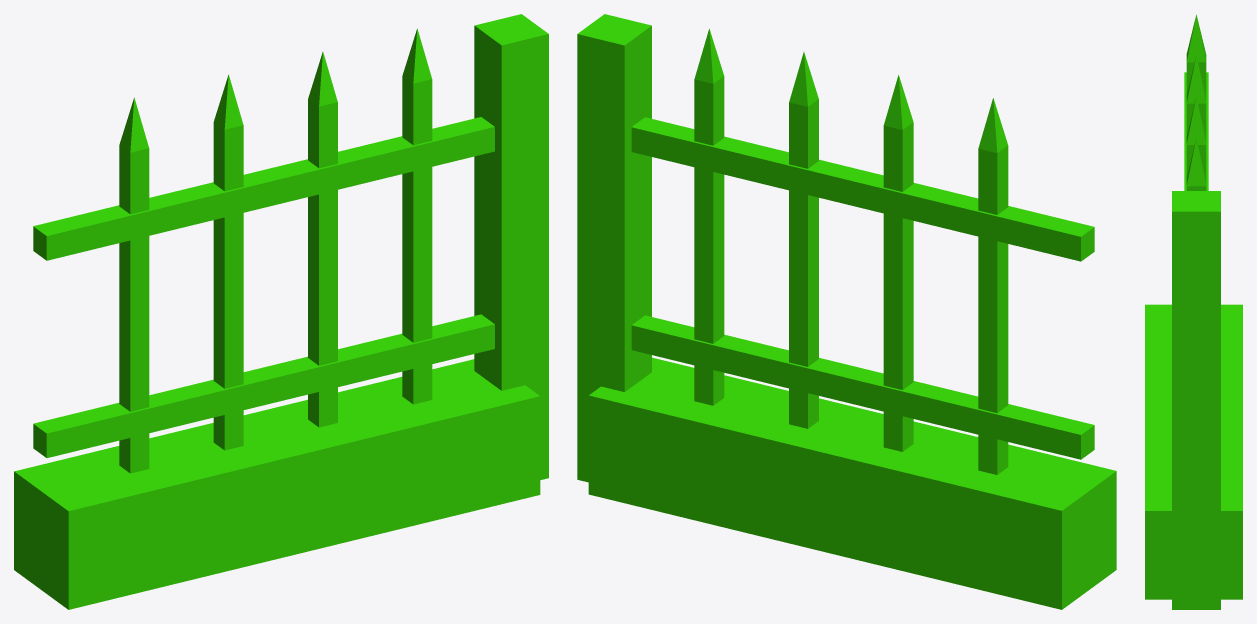
File: fence1_08.fbx
3 renders of one model, left to right at view 1: azimuth 30°, elevation 25°; view 2: azimuth 150°, elevation 25°; view 3: azimuth 270°, elevation 25°, orthographic. The views are drawn at different scales.
Parts seen in each view (by area): view 1: fence1_08; view 2: fence1_08; view 3: fence1_08.
Boxes of the visible parts, x1,y1,x2,y2 form: fence1_08: (14,14,548,609); fence1_08: (577,14,1116,609); fence1_08: (1145,14,1242,609).
Bounding box in the file's own units: 105 × 95 × 20.
